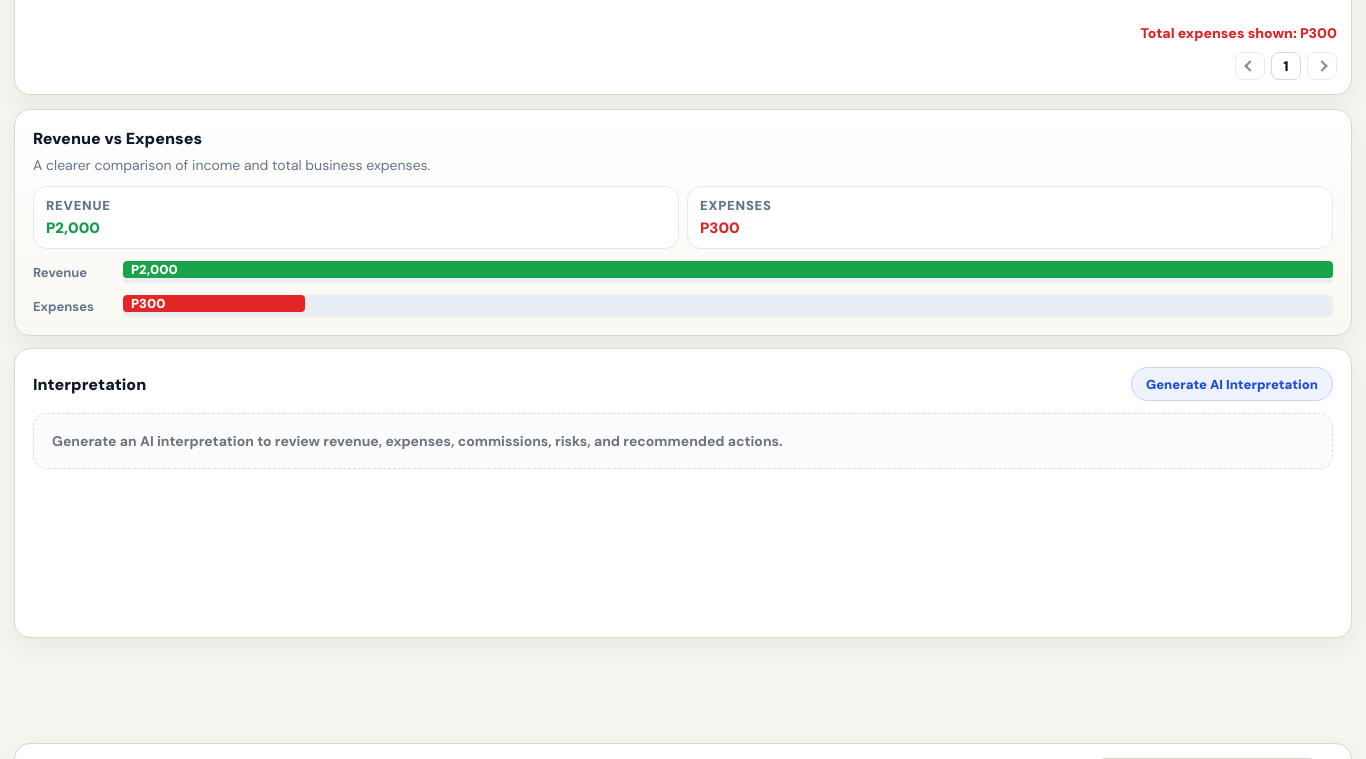
Financial Tracker AI interpretation › renders usable deterministic fallback interpretation without fatal unavailable messaging
(page scrolled)
Click the button "Generate AI Interpretation" at (1232,384), box [1131,367,1333,401]
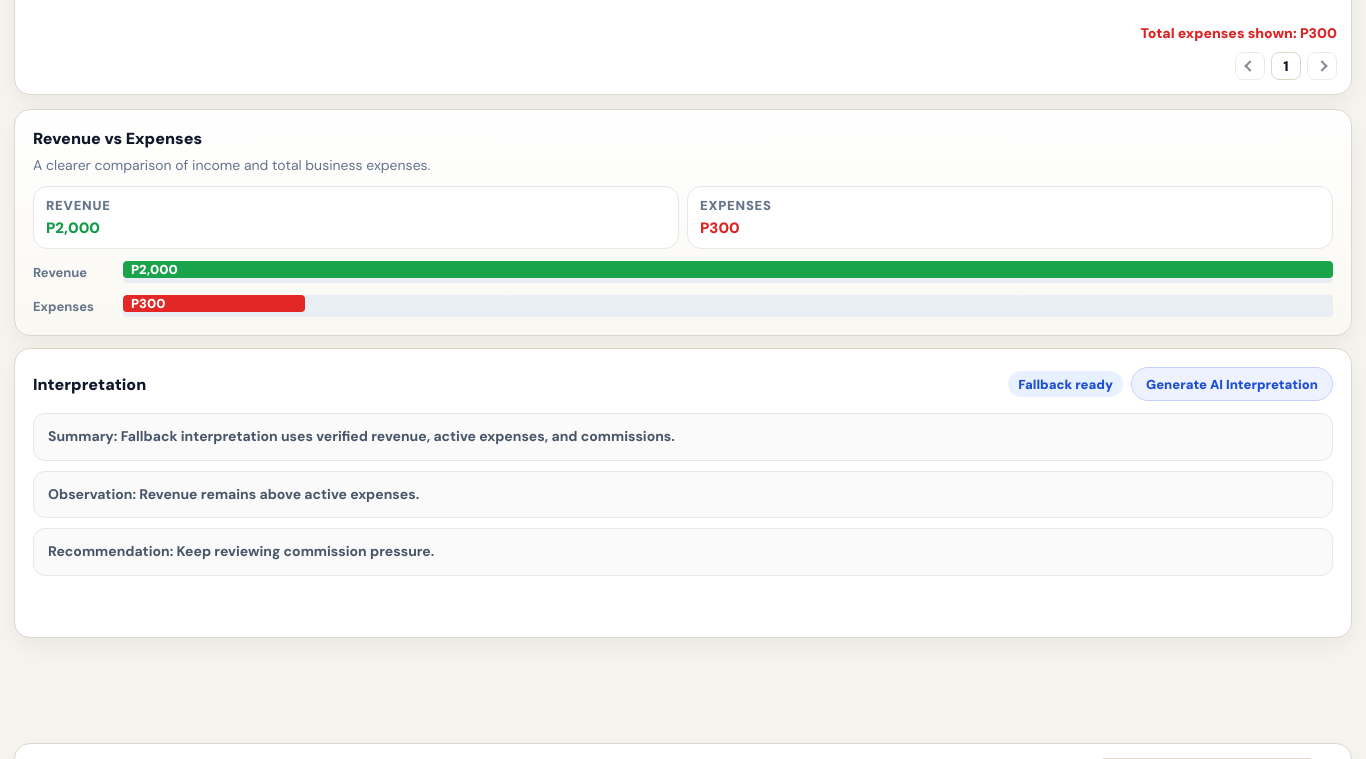
Expected: the text "Fallback interpretation uses verified revenue" is shown, [48,427,675,445]
Expected: the text "Fallback ready" is shown, [1008,371,1123,397]
